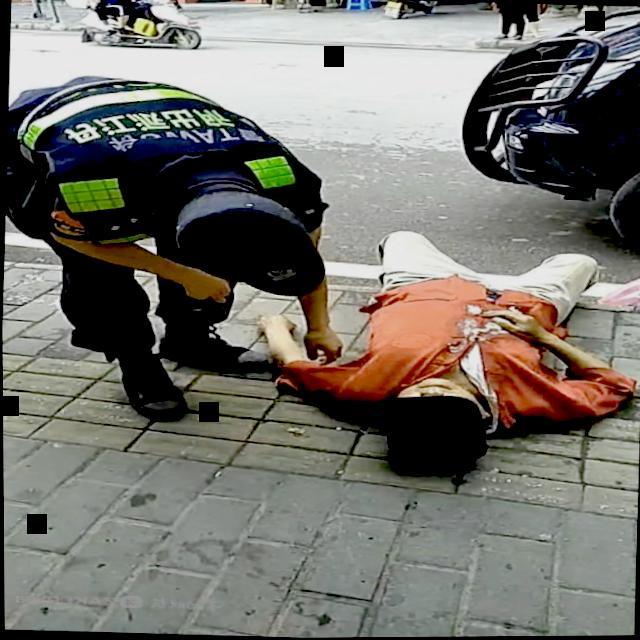Fall-Detected: (251, 198, 640, 488)
